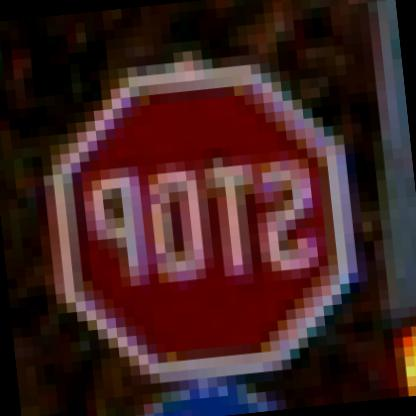stop: (28, 46, 372, 396)
